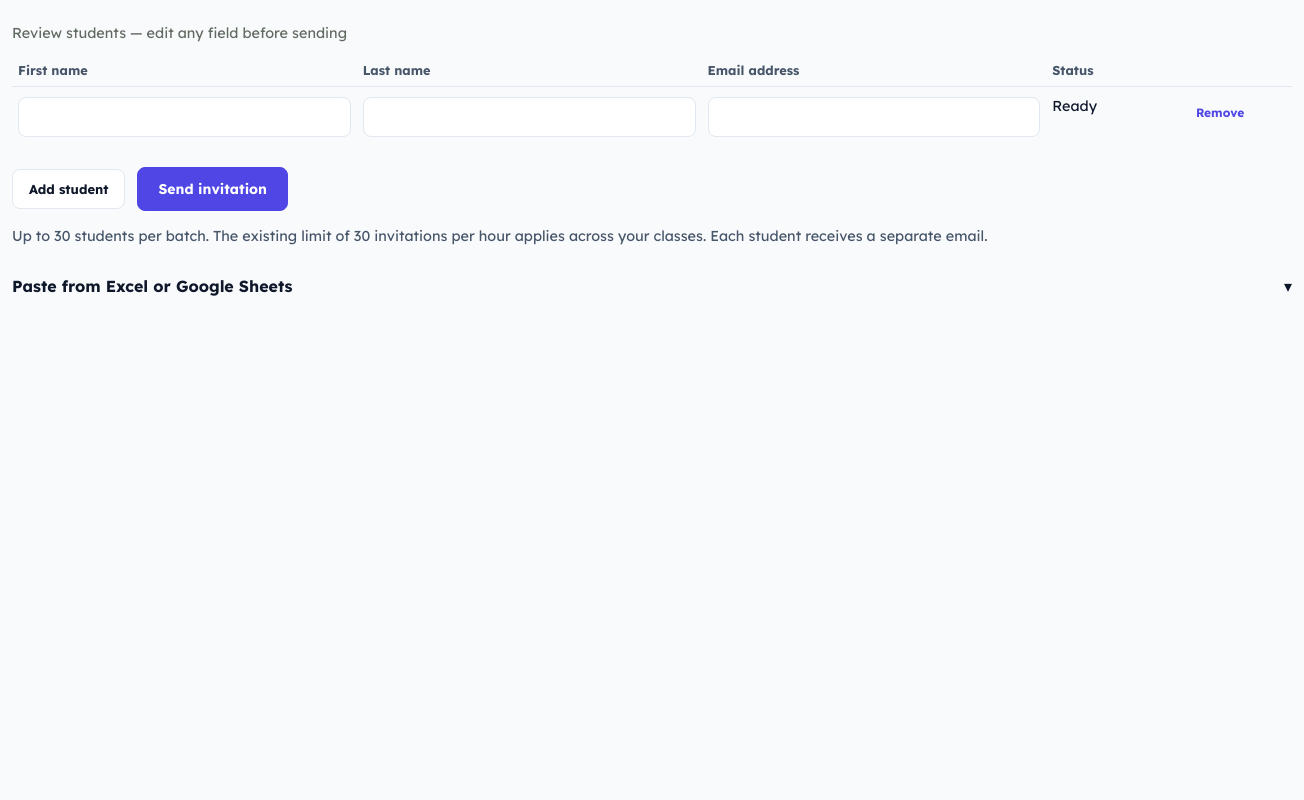
does not send existing rows while pasted students are awaiting review
Type "Sam" into the field named "First name 1" at (184, 117), box [18, 97, 351, 137]
Type "Reader" into the field named "Last name 1" at (529, 117), box [363, 97, 696, 137]
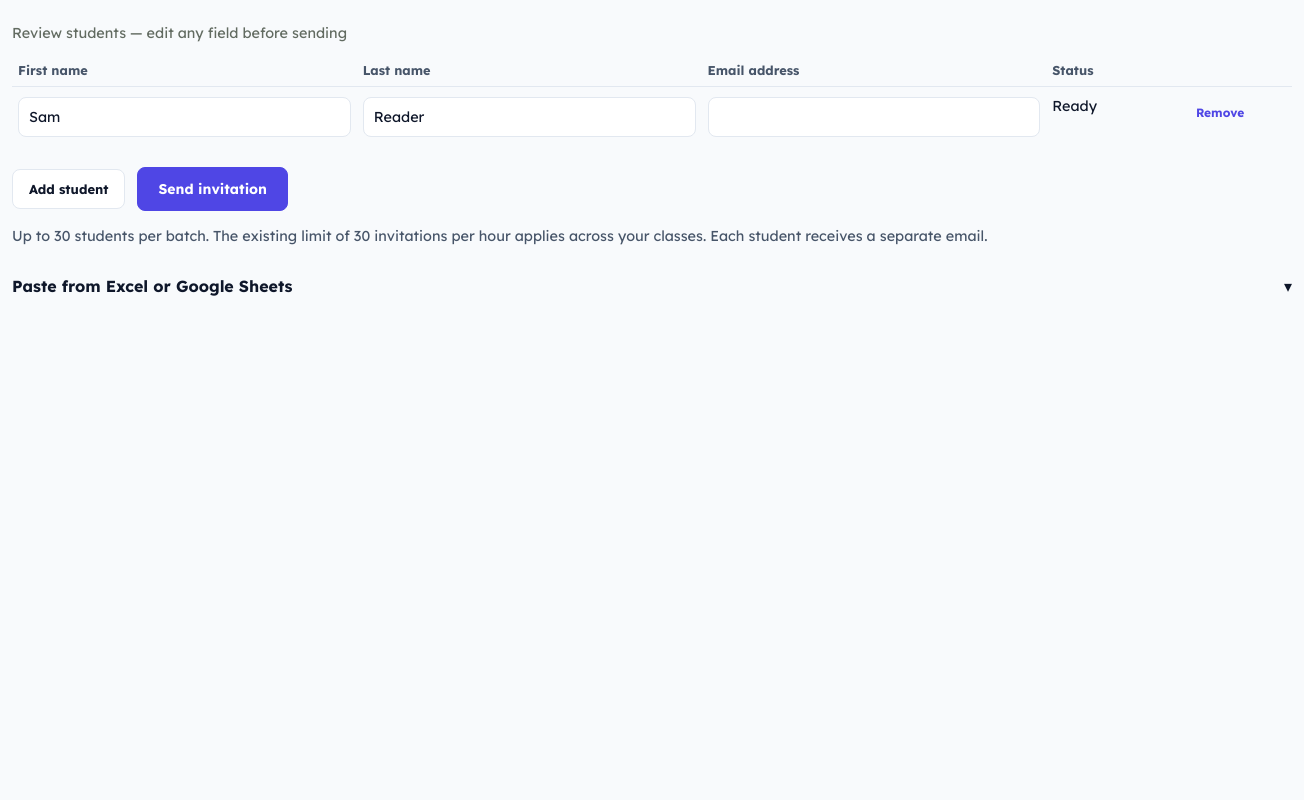
Type "existing@example.test" into the field named "Email address 1" at (874, 117), box [708, 97, 1040, 137]
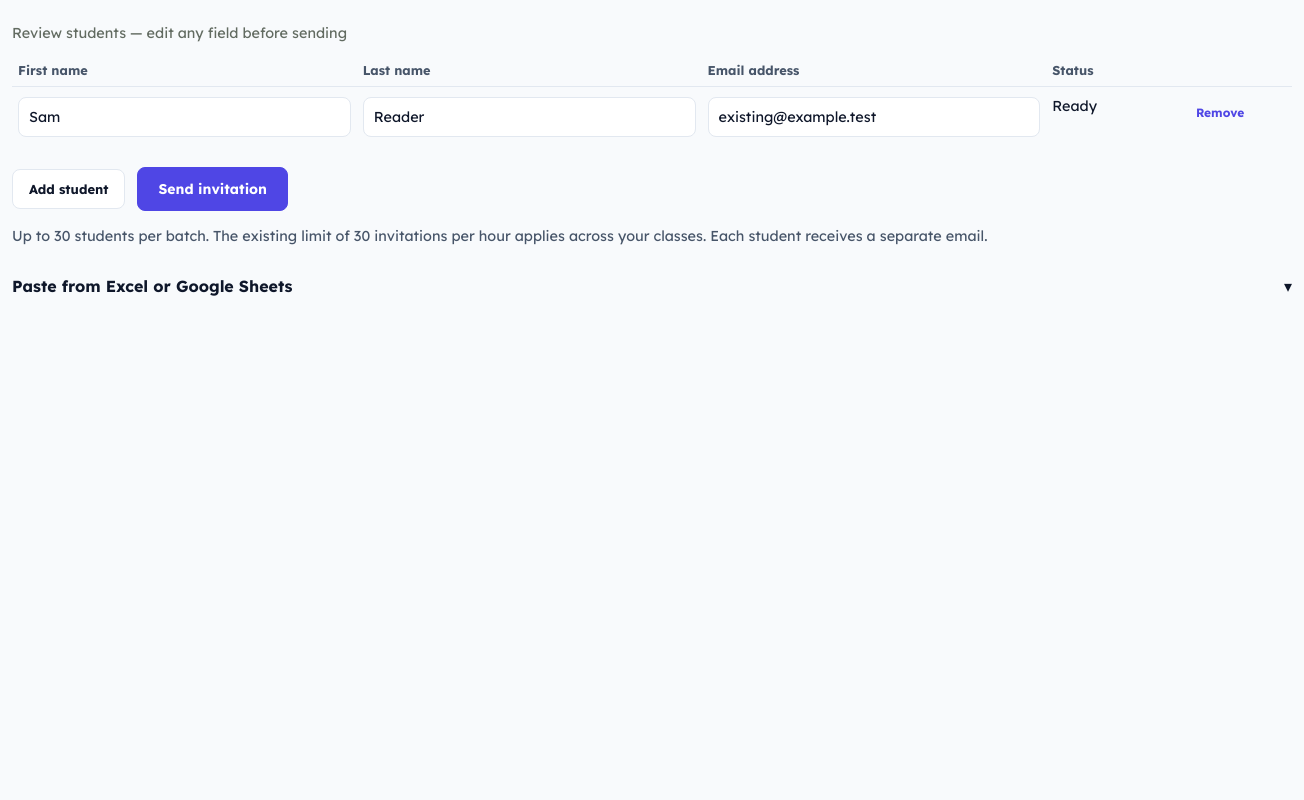
Click the button "Paste from Excel or Google Sheets ▾" at (152, 286), box [12, 264, 1292, 308]
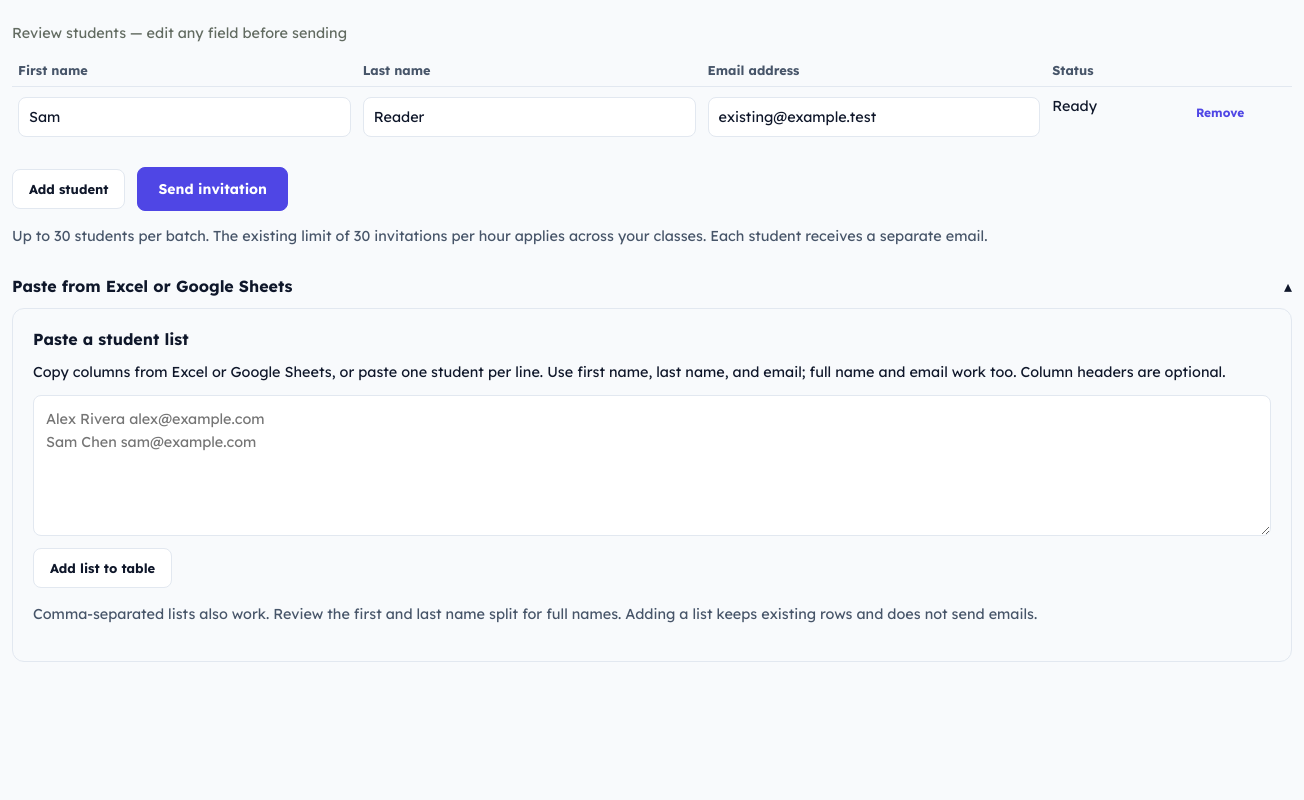
Type "Alex Rivera alex@example.test" into the text box labelled "Paste a student list" at (652, 466), box [33, 395, 1271, 536]
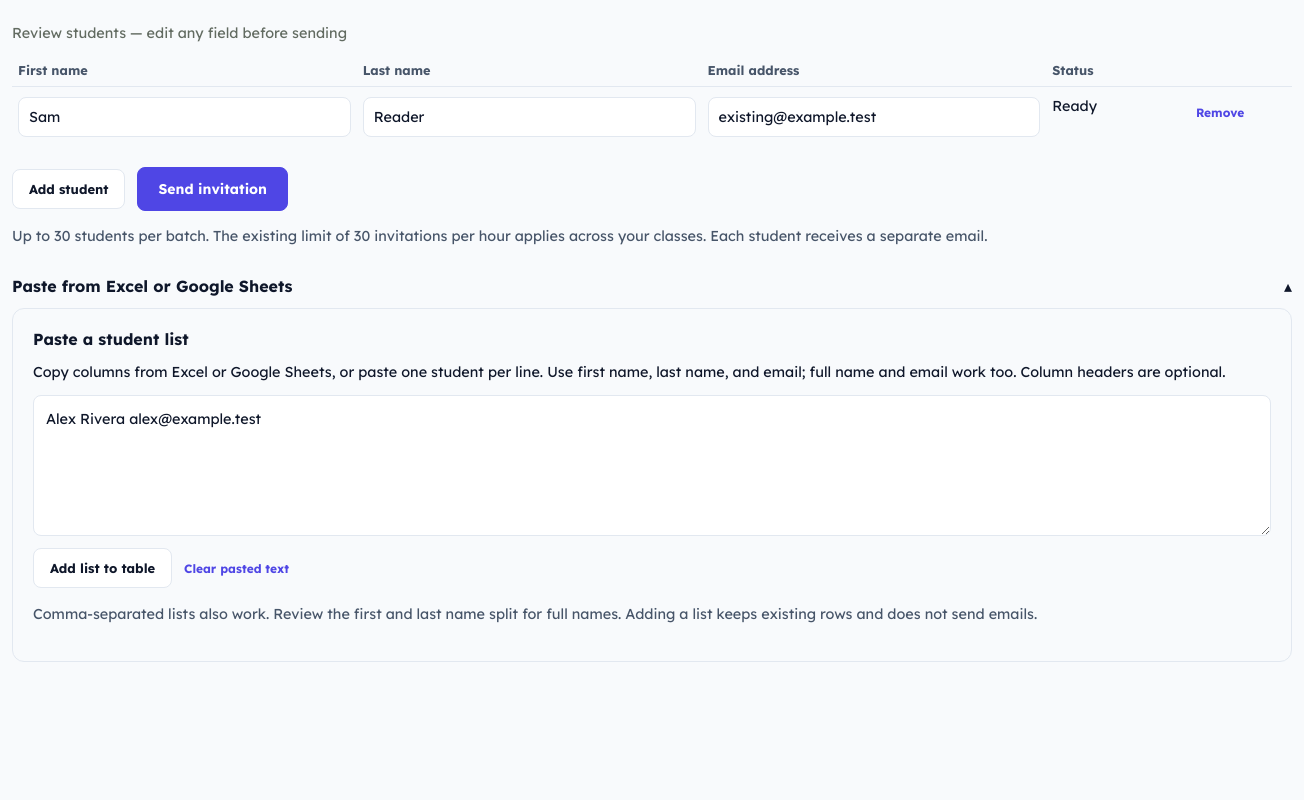
Click the button "Paste from Excel or Google Sheets ▴" at (152, 286), box [12, 264, 1292, 308]
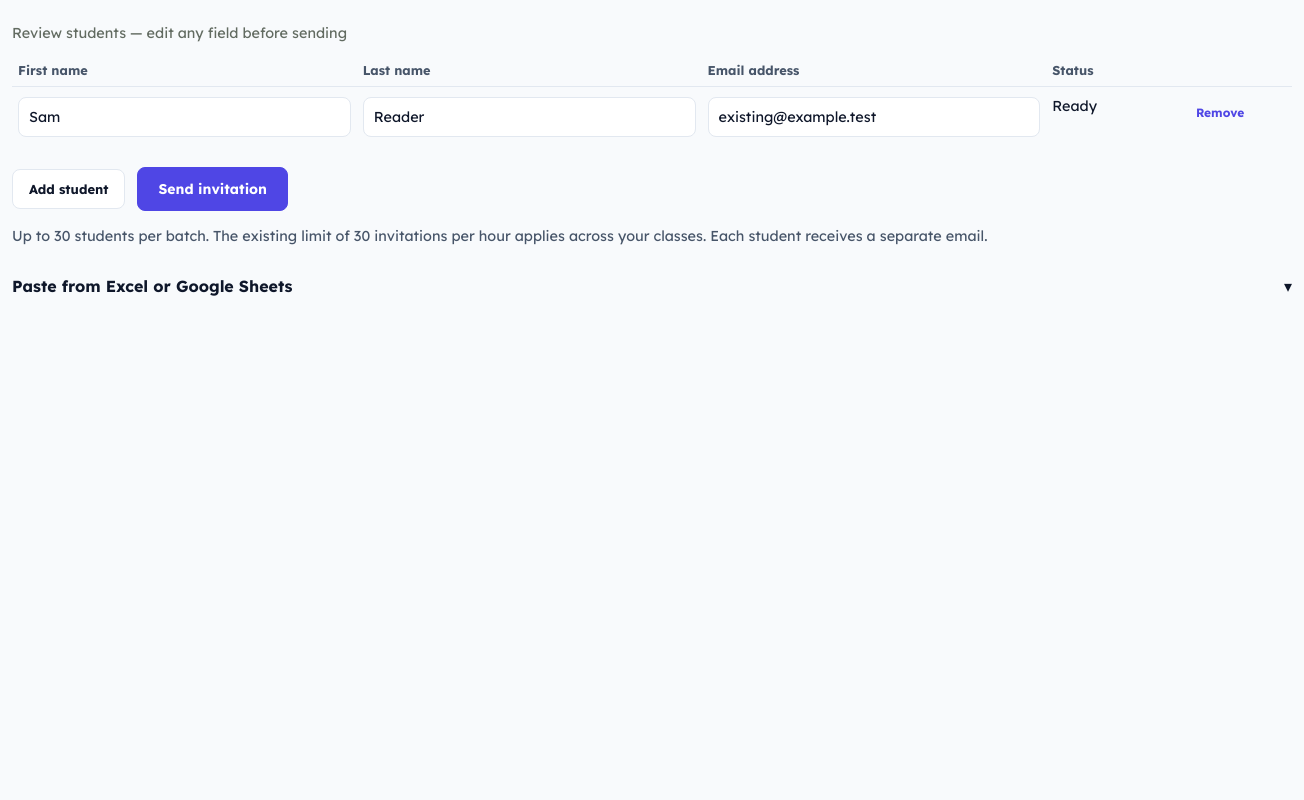
Click the button "Send invitation" at (213, 189), box [137, 167, 288, 211]
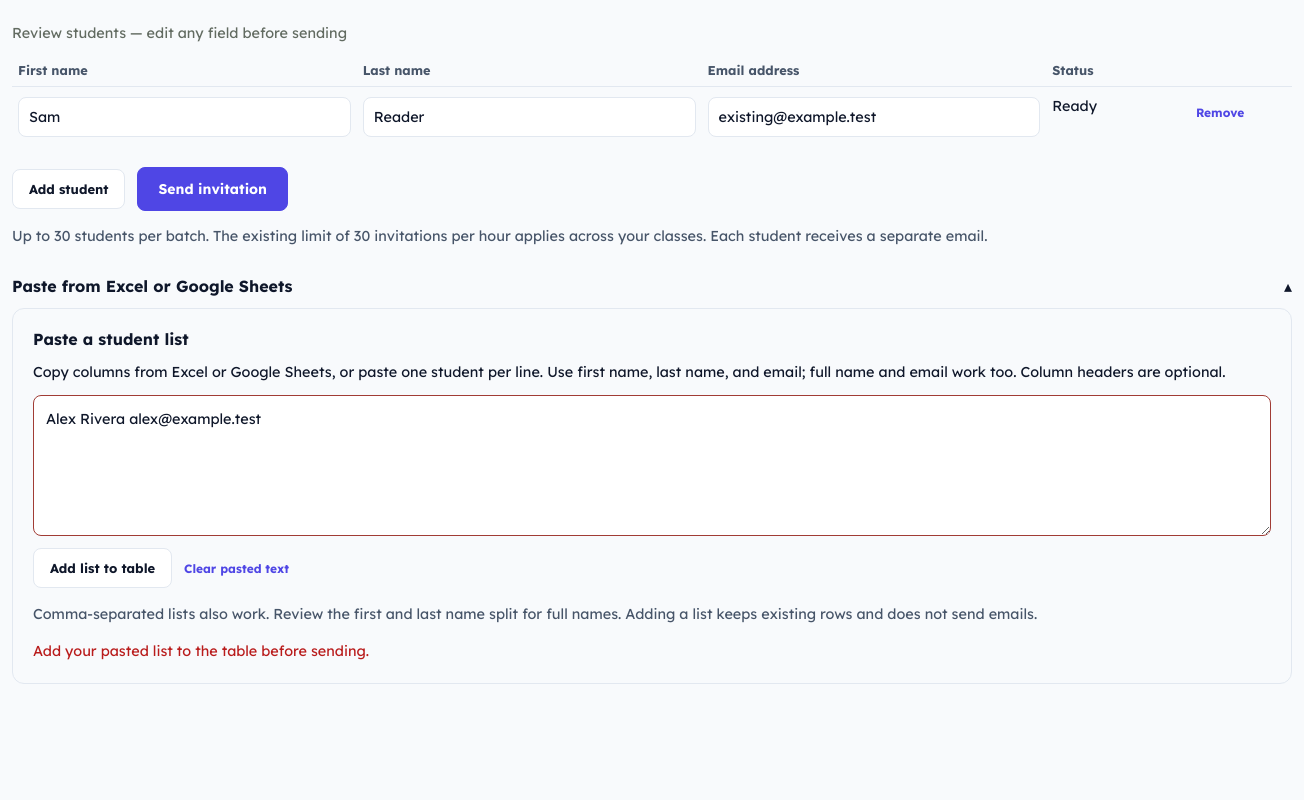
Check: the message shows "before sending", box [33, 642, 369, 660]
